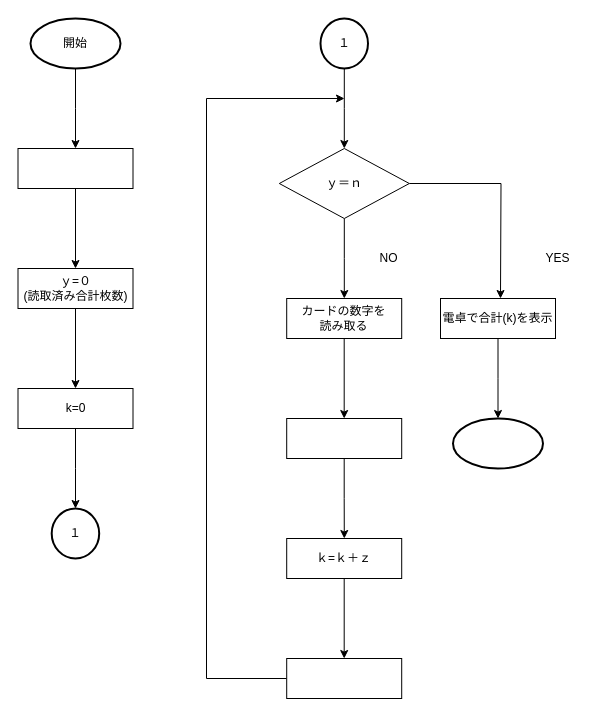
Image size: 594x716. Some labels were removed from this diagram. The shapes that lost their labels are listed below. From the top down, each one's box as (x1, y1, x2, y2) in pixels, then its label:
(17, 148, 133, 188): カードの合計枚数をnに代入(nは定数)
(286, 418, 402, 458): 読み取った数字を zに代入
(452, 417, 544, 469): 終了
(286, 658, 402, 698): ｙ=ｙ＋１
